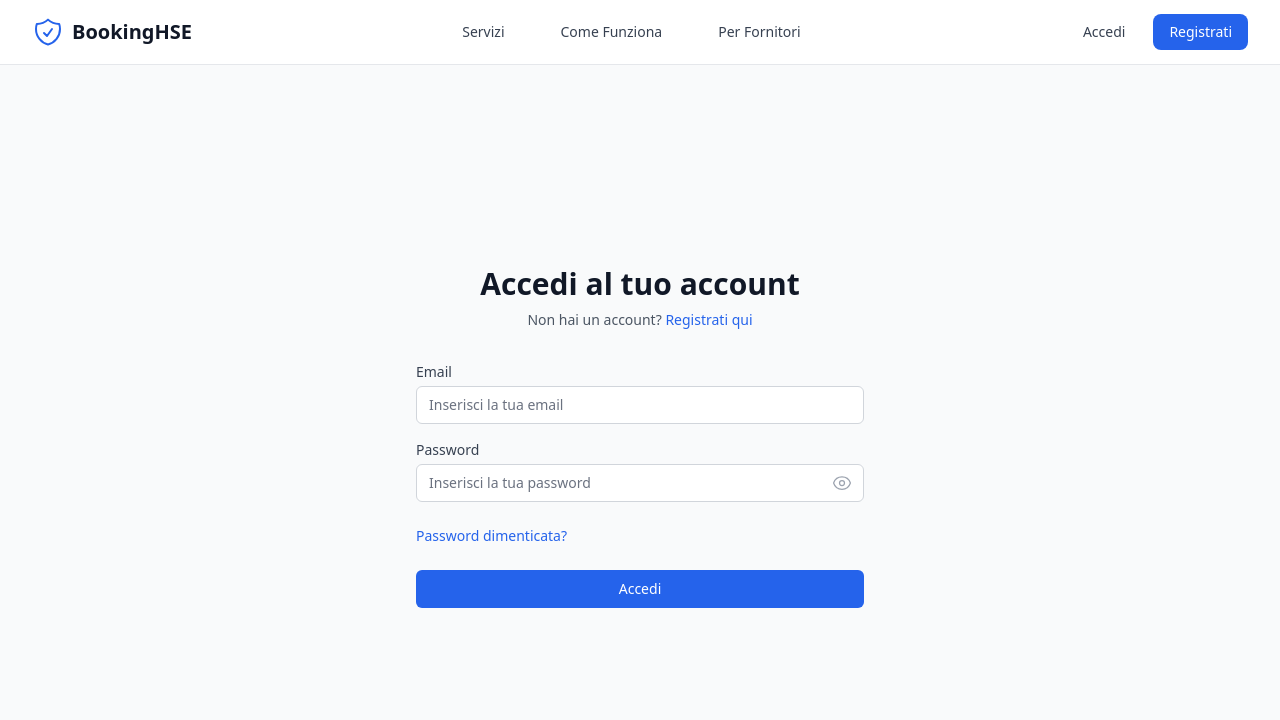
LoginPage › shows loading state during login
Type "test@example.com" into the field labelled "Email". click: (640, 405)
box: [416, 386, 864, 424]
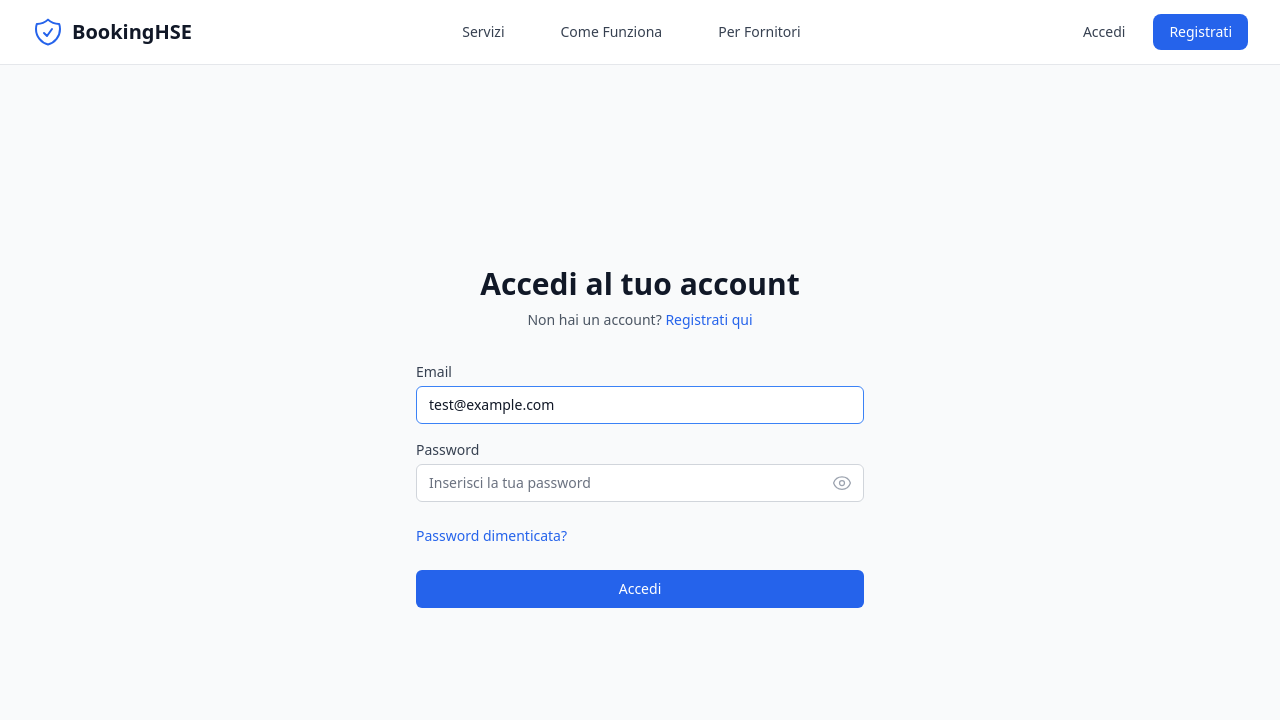
Type "password123" into the password field labelled "Password". click: (640, 483)
box: [416, 464, 864, 502]
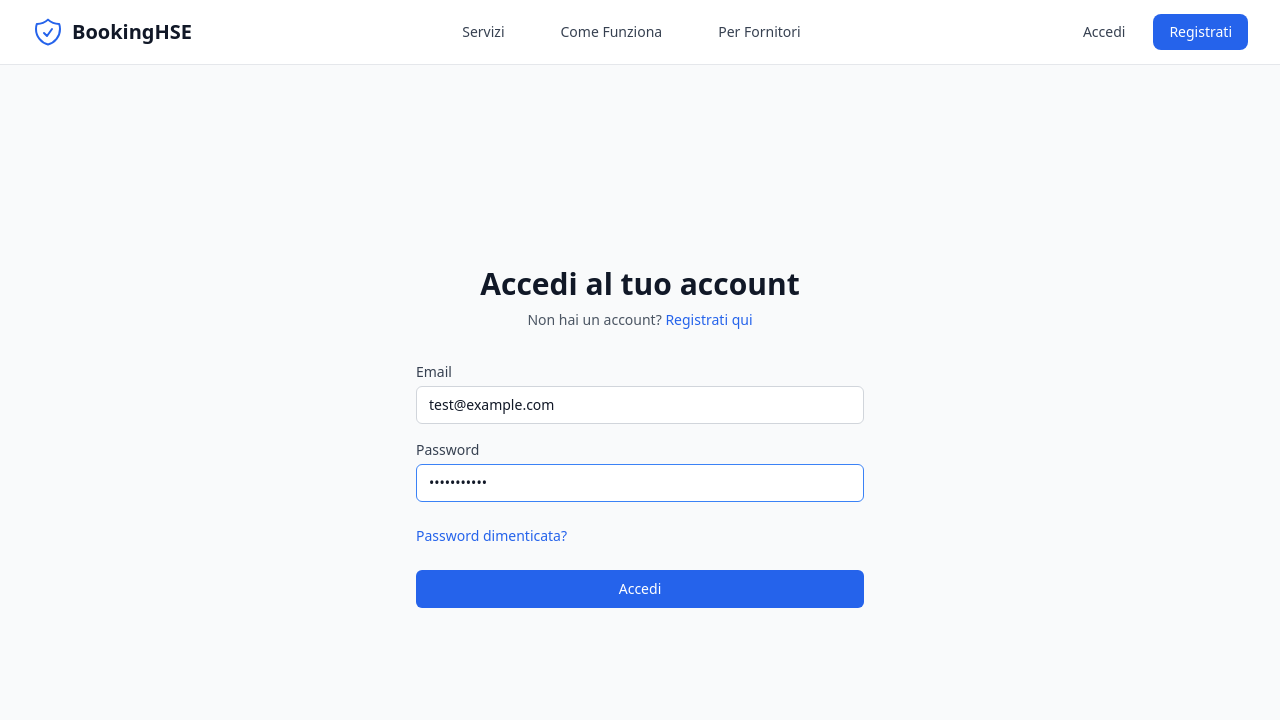
Click the button "Accedi". click: (640, 589)
box: [416, 570, 864, 608]
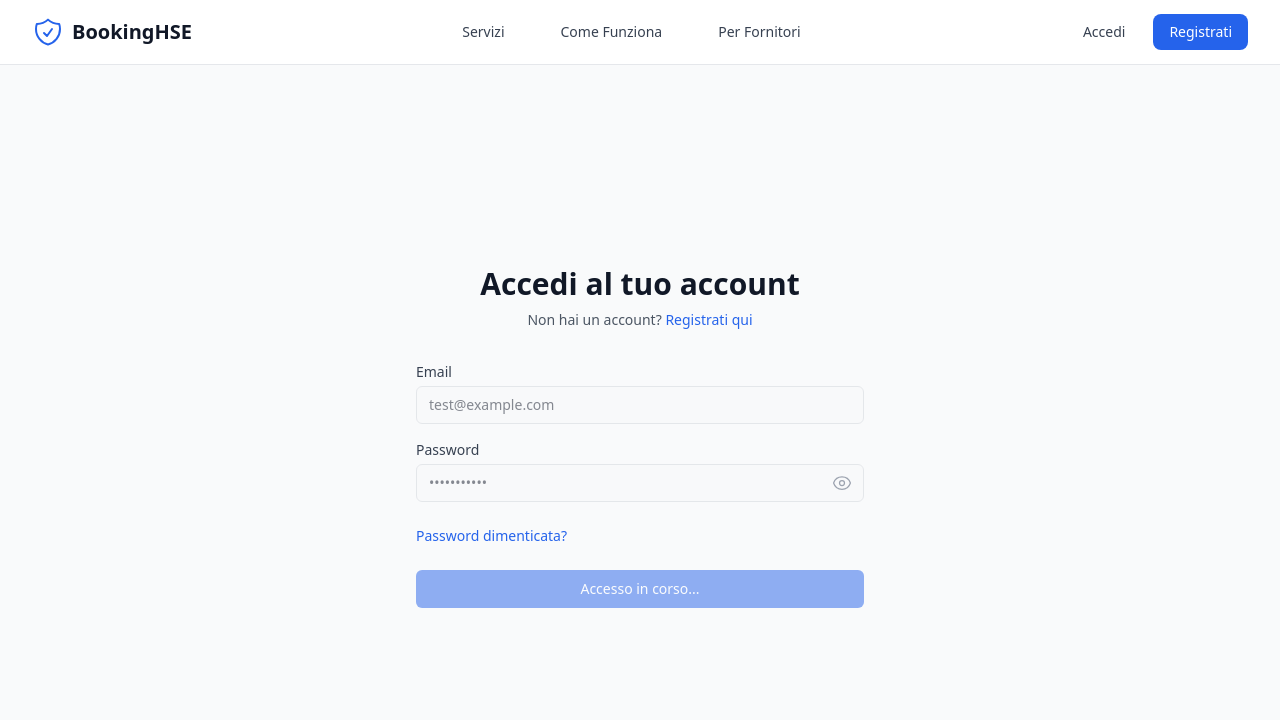
Expected: the text "Accesso in corso..." is shown, [580, 579, 700, 599]
Expected: the button named "accedi" is disabled, [416, 570, 864, 608]
